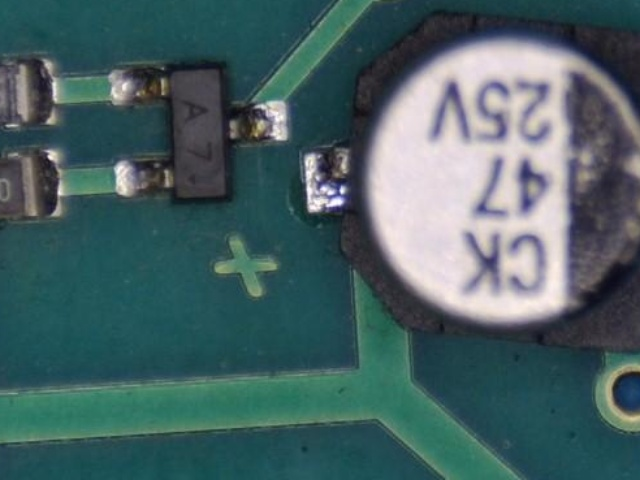pcb_defect: (303, 11, 640, 355)
